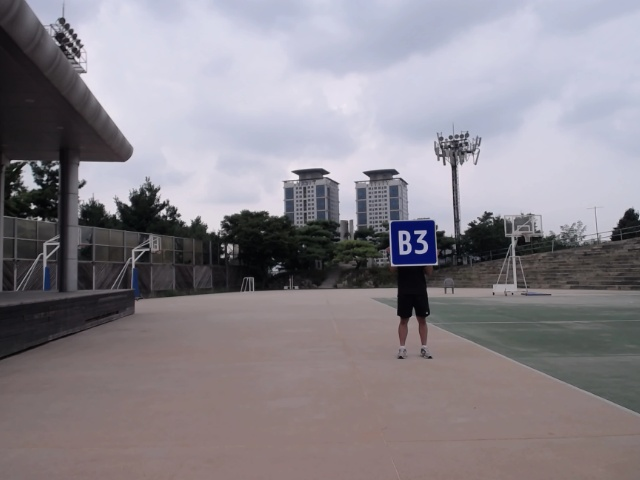delivery_b3: (387, 215, 442, 269)
